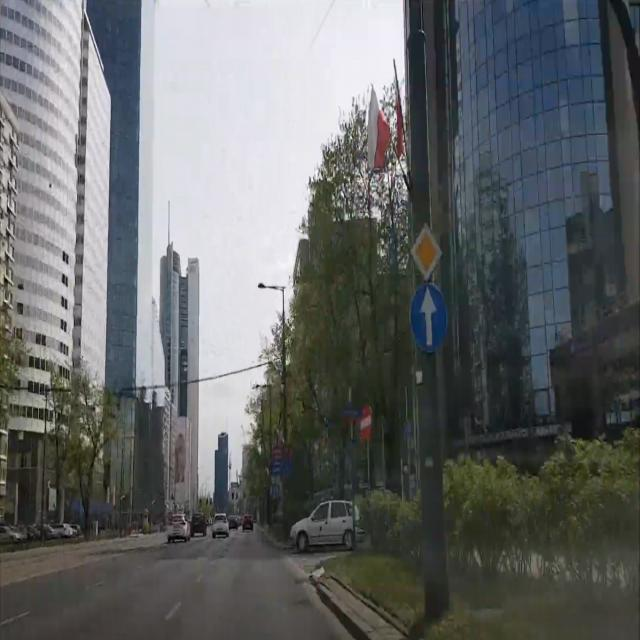Droga z pierwszenstwem: (409, 220, 444, 279)
Zakaz wjazdu: (360, 405, 371, 439)
